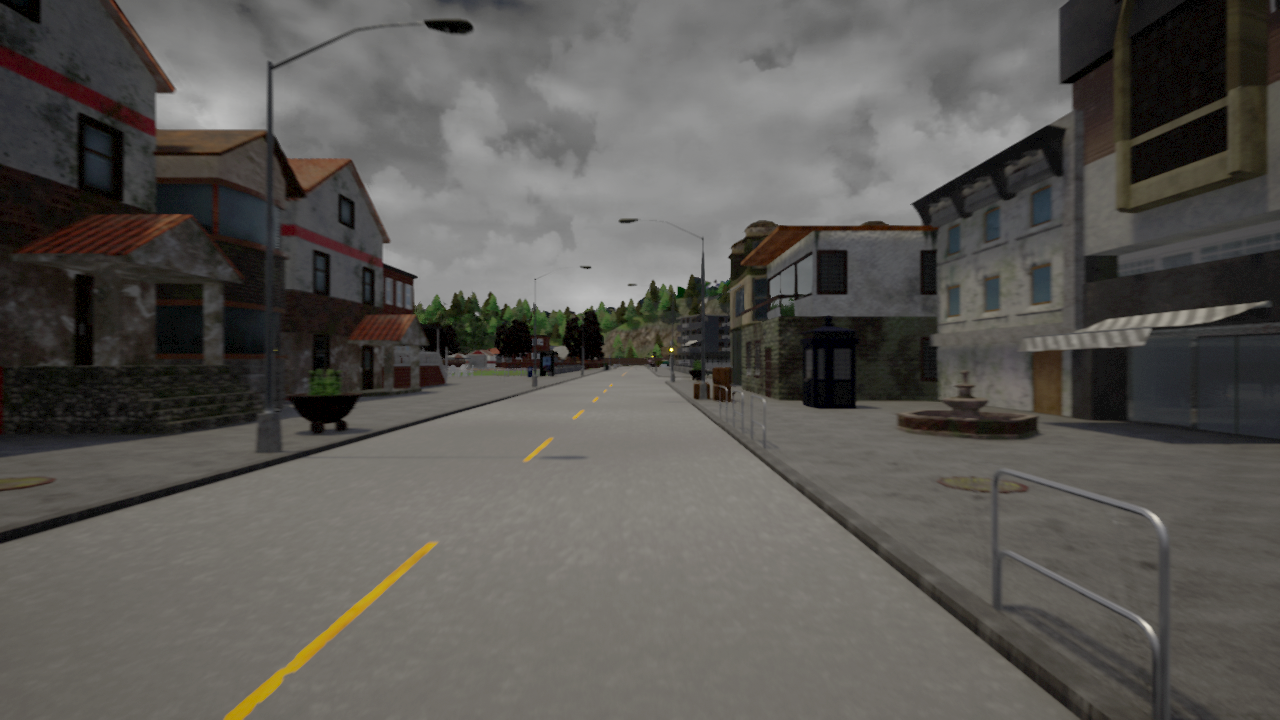yellow: (668, 343, 674, 356)
